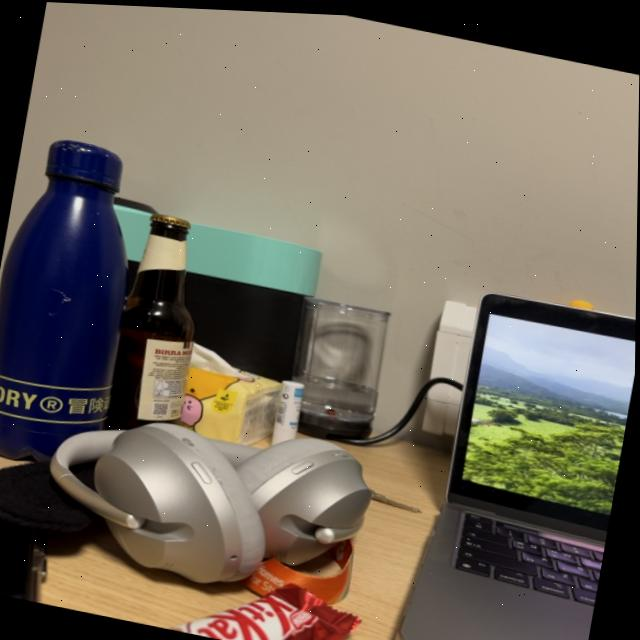beer: (95, 204, 224, 448)
chocolate: (175, 555, 364, 640)
